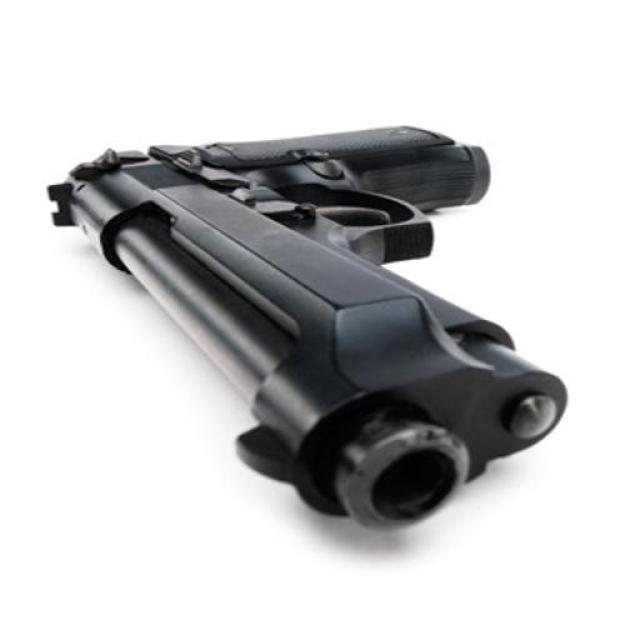pistol: (34, 120, 590, 529)
